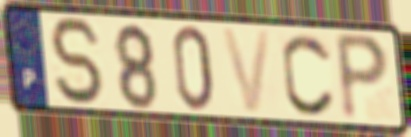0: (169, 22, 217, 113)
8: (111, 19, 159, 111)
C: (280, 31, 338, 119)
P: (333, 29, 393, 125)
S: (46, 14, 109, 109)
V: (218, 25, 274, 115)
